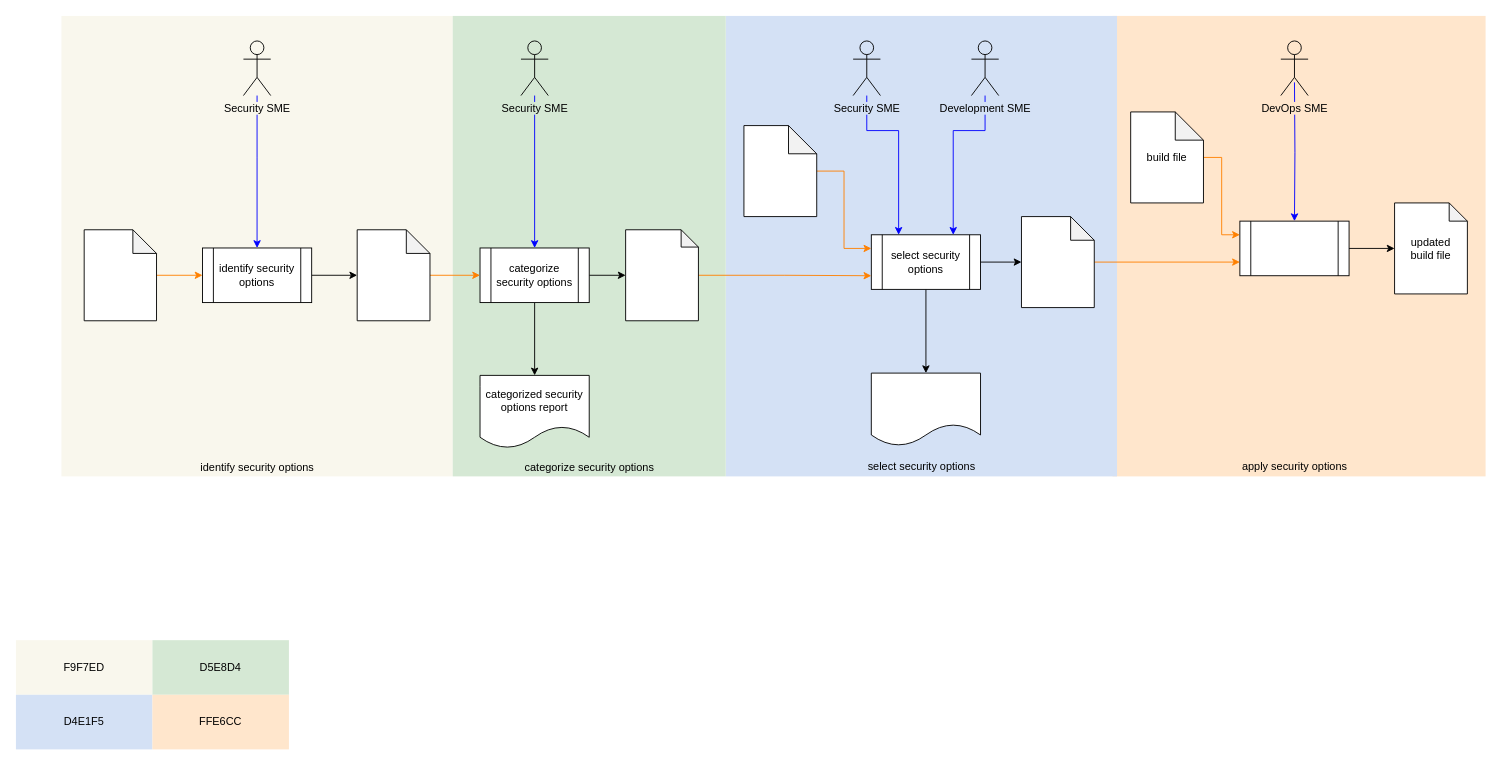
Some shapes in this 1501 by 764 pixel diagram are drawn without their labels. Each missing label, with the centre of its shape:
apply element-specific options: point 1294,248
categorized tool security options: point 661,275
element: point 780,171
element-specific tool security options: point 1057,262
security options qualification report: point 925,409
tool documentation: point 120,275
tool security options: point 393,275
